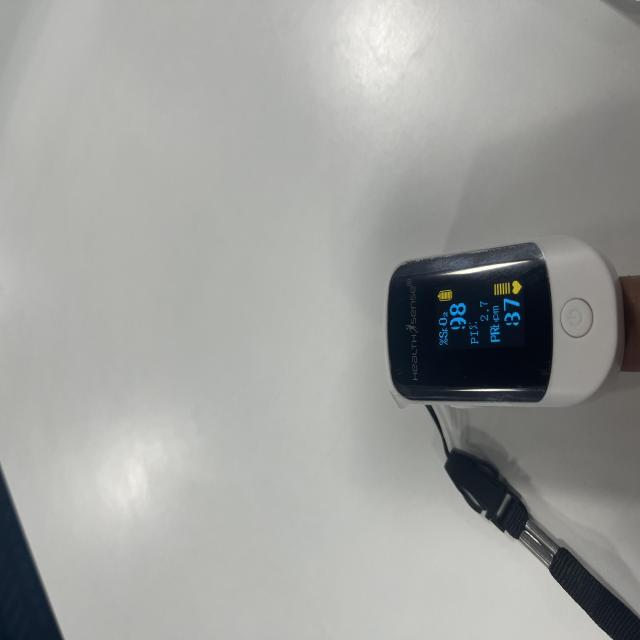spo2: (385, 243, 622, 408)
